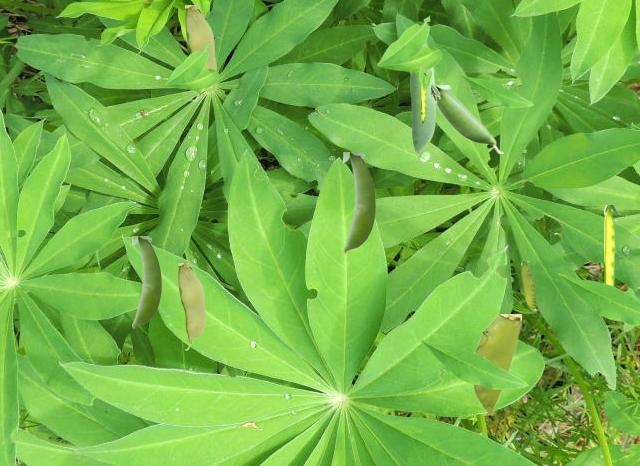pea: (472, 314, 520, 414), (431, 85, 502, 152), (343, 152, 374, 252), (185, 5, 215, 100), (410, 40, 434, 152), (132, 236, 160, 327), (178, 263, 205, 349), (604, 205, 619, 285), (521, 261, 535, 310), (421, 73, 426, 122)
